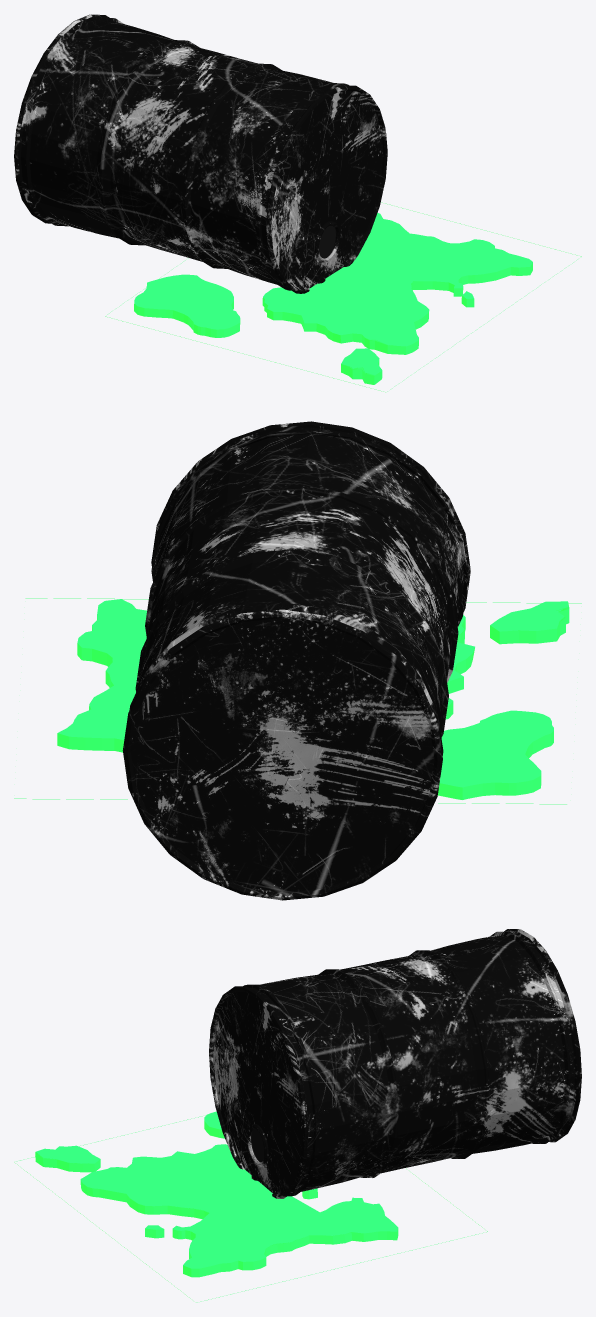
File: Prop3.glb
The picture shows the model from 3 angles, top to bottom: view 1: azimuth 30°, elevation 25°; view 2: azimuth 150°, elevation 25°; view 3: azimuth 270°, elevation 25°; orthographic projection. The views are drawn at different scales.
Parts seen in each view (by area): view 1: Cube; view 2: Cube; view 3: Cube.
Boxes of the visible parts, bbox=[...] form: Cube: bbox=[14, 14, 581, 392]; Cube: bbox=[14, 421, 581, 900]; Cube: bbox=[14, 929, 581, 1302].
Bounding box in the file's own units: 10.96 × 4.88 × 12.58.
3 materials, 1 textured.
